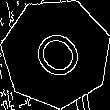O_SE: (23, 20, 89, 87)
